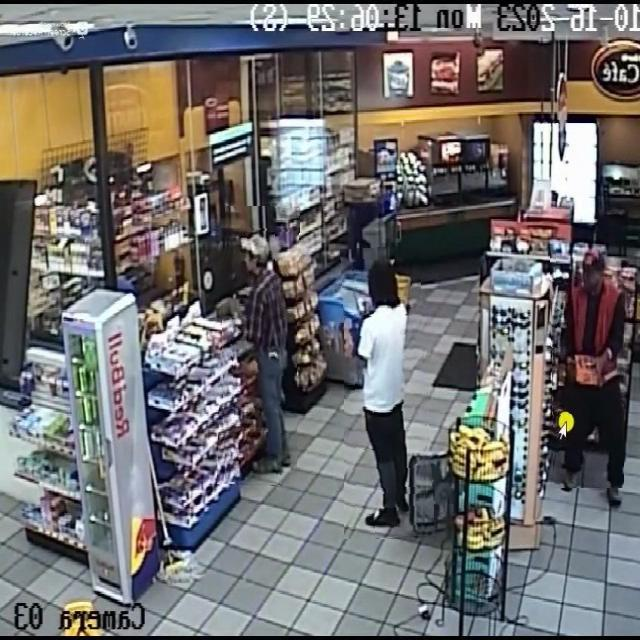Normal: (344, 246, 431, 539), (219, 206, 297, 486), (550, 244, 624, 488)
